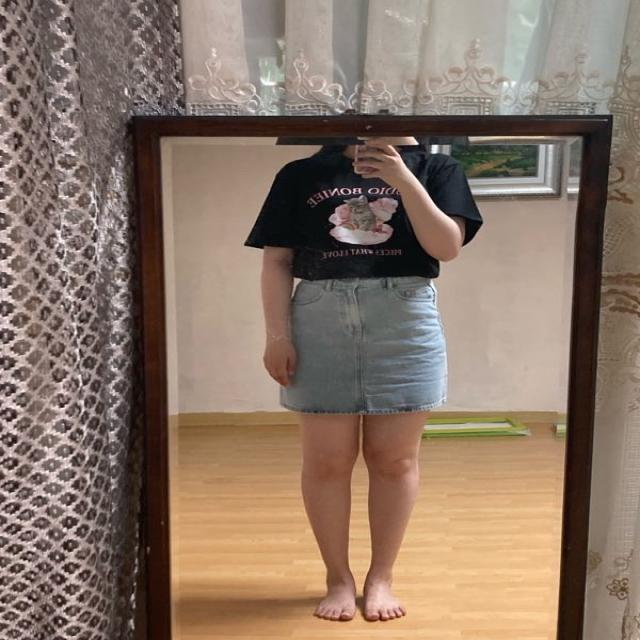shortsleeve: (247, 152, 476, 280)
skirt: (282, 277, 449, 415)
